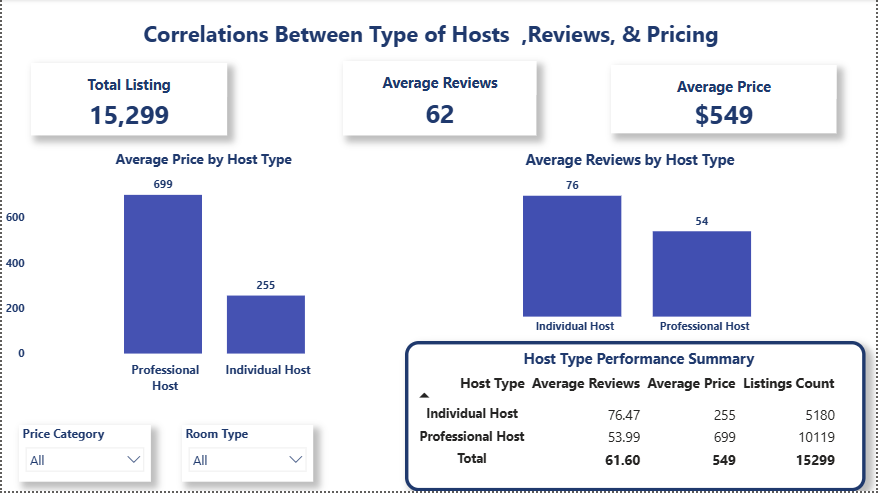

This screenshot's page, from the dashboard's own definition file:
{"tool":"powerbi","page":{"name":"correlations between host","canvas":[1280,720],"ordinal":3},"visuals":[{"type":"clusteredColumnChart","fields":{"Category":["M4_pro.Host Type"],"Y":["M4_pro.Average Reviews"]},"box":[557.5,219.6,722.5,280.3],"z":1},{"type":"clusteredColumnChart","fields":{"Category":["M4_pro.Host Type"],"Y":["M4_pro.Average Price"]},"box":[0,219.6,590.2,364.4],"z":3},{"type":"pivotTable","title":"Host Type Performance Summary","fields":{"Rows":["M4_pro.Host Type"],"Values":["M4_pro.Average Reviews","M4_pro.Average Price","M4_pro.Listings Count"]},"box":[590.2,499.9,674.3,219.6],"z":4},{"type":"textbox","box":[59.2,23.4,1138.3,90.3],"z":6},{"type":"slicer","title":"Price Category","fields":{"Values":["M4_pro.Price Category"]},"box":[24.9,622.9,193.1,82.5],"z":10},{"type":"slicer","title":"Room Type","fields":{"Values":["M4_pro.room_type"]},"box":[263.2,622.9,191.5,82.5],"z":11},{"type":"card","title":"Average Reviews","fields":{"Values":["M4_pro.Average Reviews"]},"box":[498.3,90.3,283.4,109],"z":12},{"type":"card","title":"Total Listing","fields":{"Values":["M4_pro.Listings Count"]},"box":[42,93.4,286.5,105.9],"z":14},{"type":"card","title":"Average Price","fields":{"Values":["M4_pro.Average Price"]},"box":[890.7,96.5,330.1,99.7],"z":15}]}

Visuals, with their boxes in screenshot pixels (x1, y1, x2, y2), scaled from the page's 1280x720 canvas onto the 878x496 screenshot:
clusteredColumnChart - M4_pro.Host Type x M4_pro.Average Reviews: 382:151:877:344
clusteredColumnChart - M4_pro.Host Type x M4_pro.Average Price: 0:151:405:402
"Host Type Performance Summary" pivotTable: 405:344:867:495
textbox: 41:16:821:78
"Price Category" slicer: 17:429:150:486
"Room Type" slicer: 181:429:312:486
"Average Reviews" card: 342:62:536:137
"Total Listing" card: 29:64:225:137
"Average Price" card: 611:66:837:135
